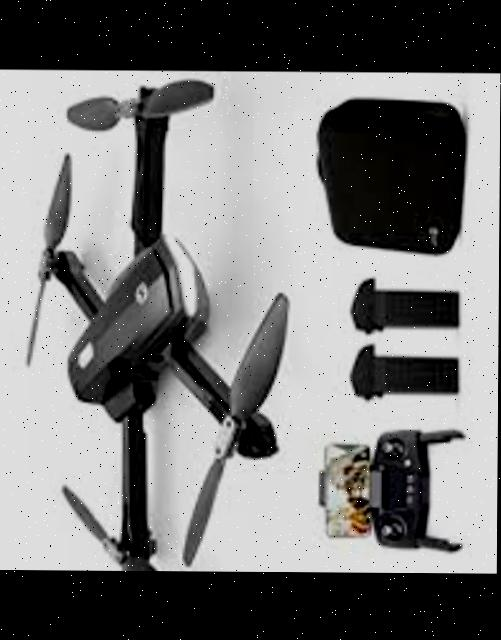drone: (4, 70, 299, 572)
